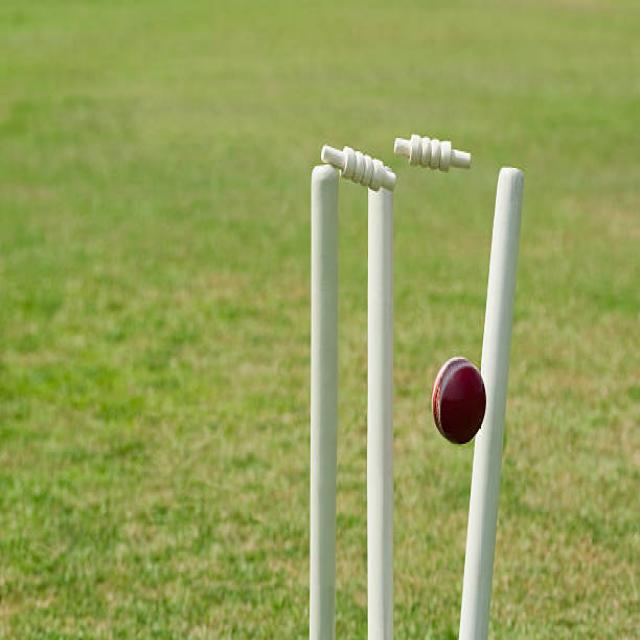stump: (308, 142, 487, 640)
